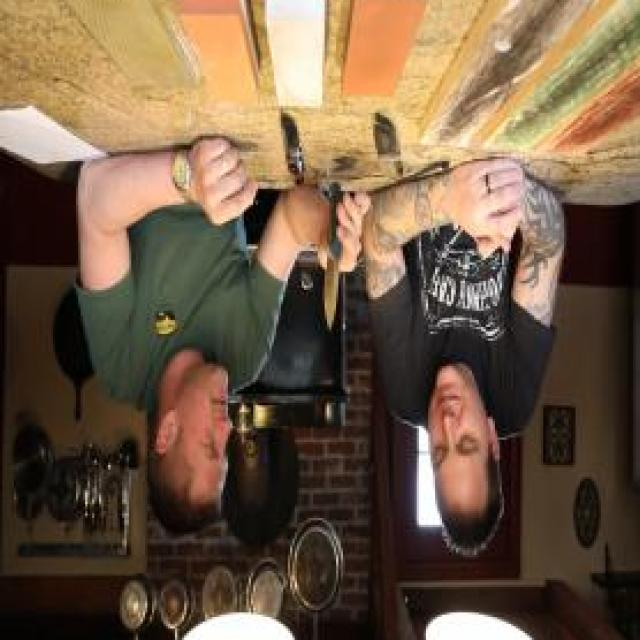knife: (317, 194, 363, 346)
